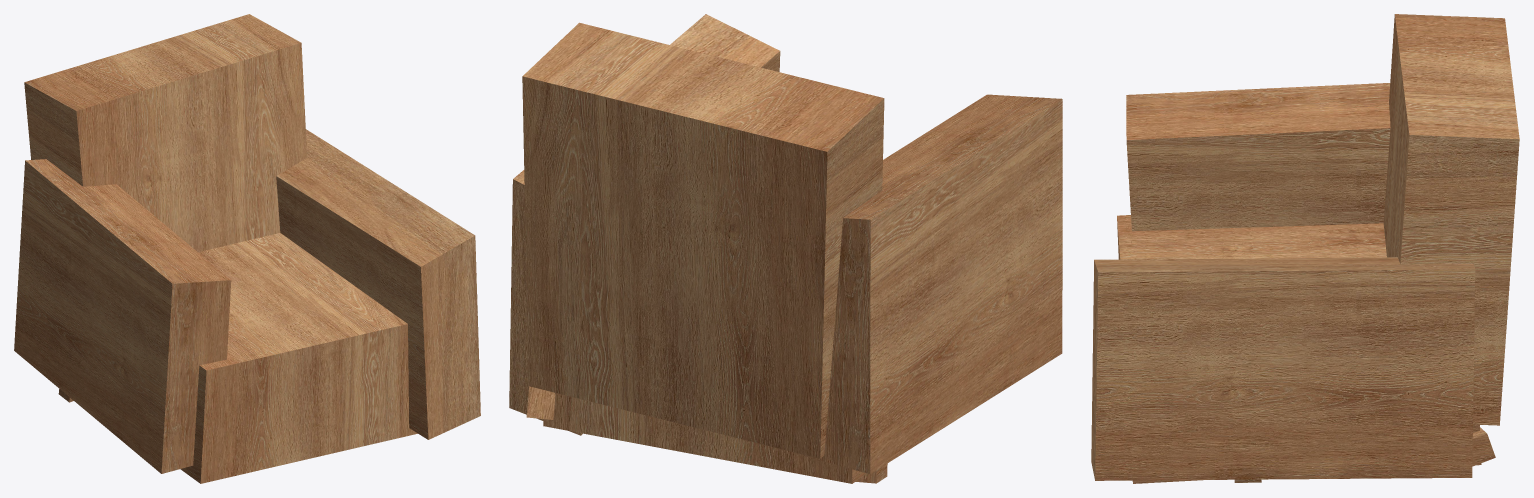
File: 41067_ours.glb
The picture shows the model from 3 angles, left to right: view 1: azimuth 30°, elevation 25°; view 2: azimuth 150°, elevation 25°; view 3: azimuth 270°, elevation 25°; orthographic projection. The views are drawn at different scales.
Parts seen in each view (by area): view 1: ParentEmpty; view 2: ParentEmpty; view 3: ParentEmpty.
Part boxes in pixels (x1,y1,x2,y2): ParentEmpty: (14,14,480,483); ParentEmpty: (509,14,1062,483); ParentEmpty: (1091,14,1519,483).
Bounding box in the file's own units: 0.924 × 0.9083 × 1.
1 material, 1 textured.
